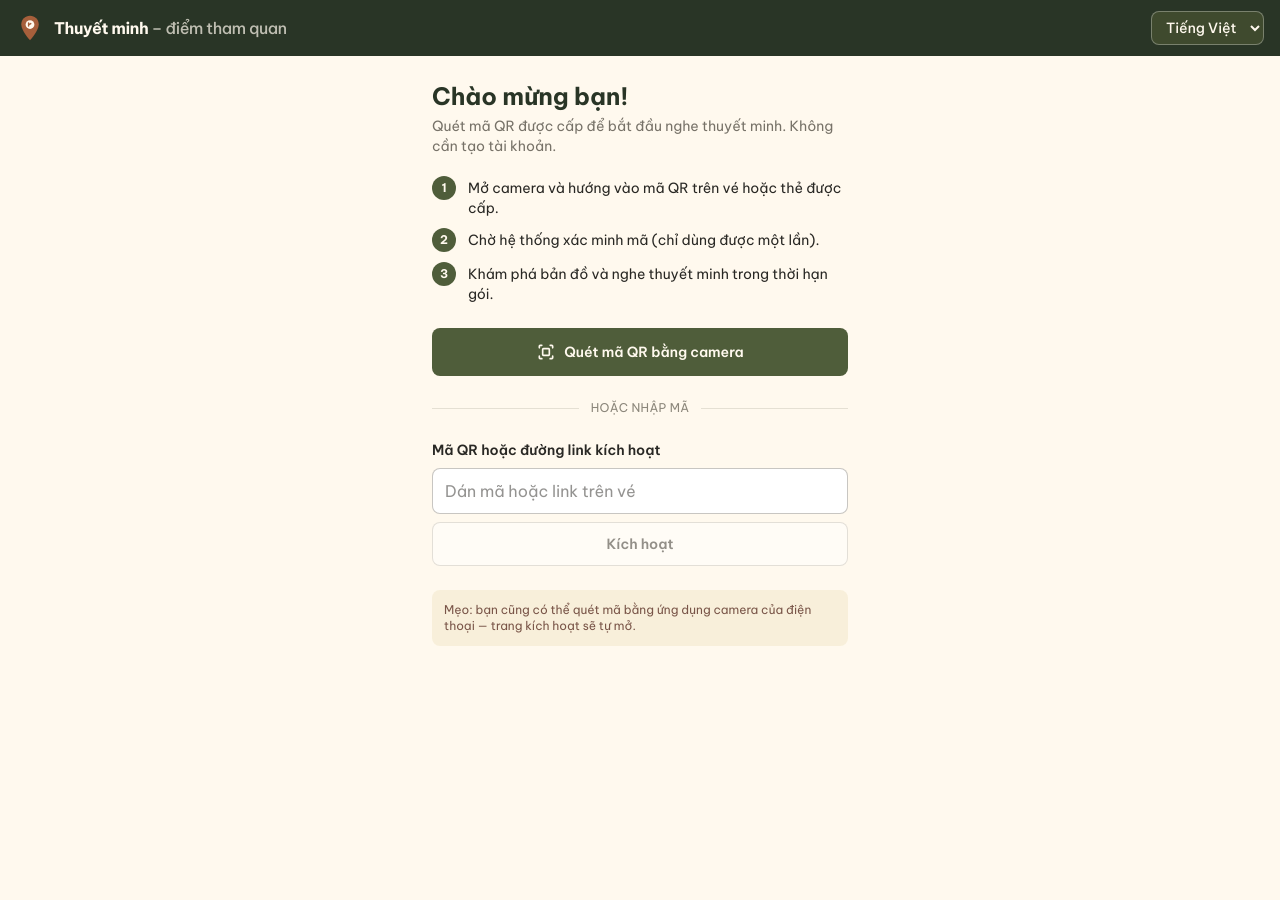
it: Scan screen (UC02 step 1) › UC01: switching the language also switches the interface
The image size is (1280, 900).
Select "English" in the dropdown named "Ngôn ngữ" at (1208, 28), box [1151,11,1264,45]
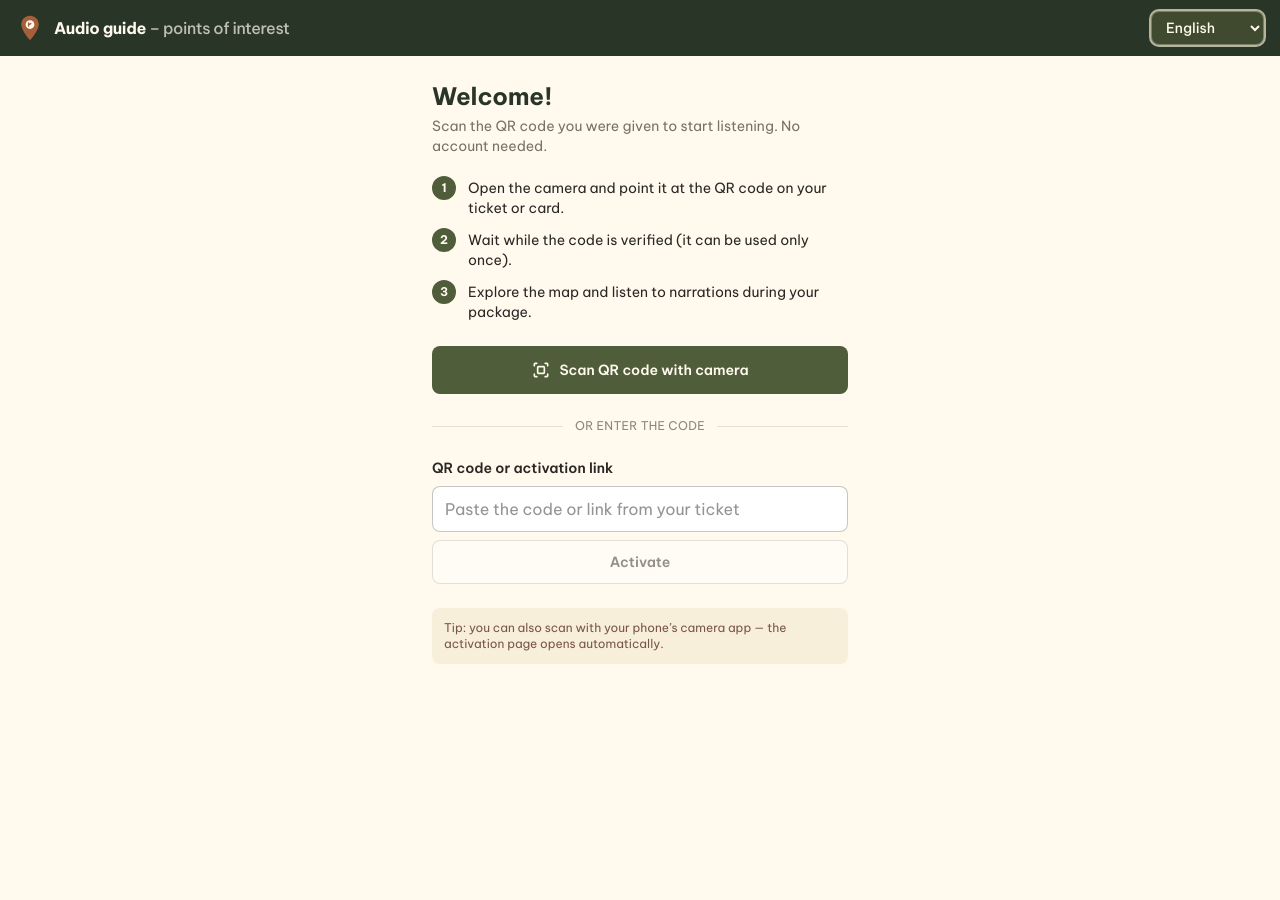
expect the heading "Welcome!" is shown: met, box [432,81,552,111]
expect the button "Scan QR code with camera" is shown: met, box [432,346,848,394]
